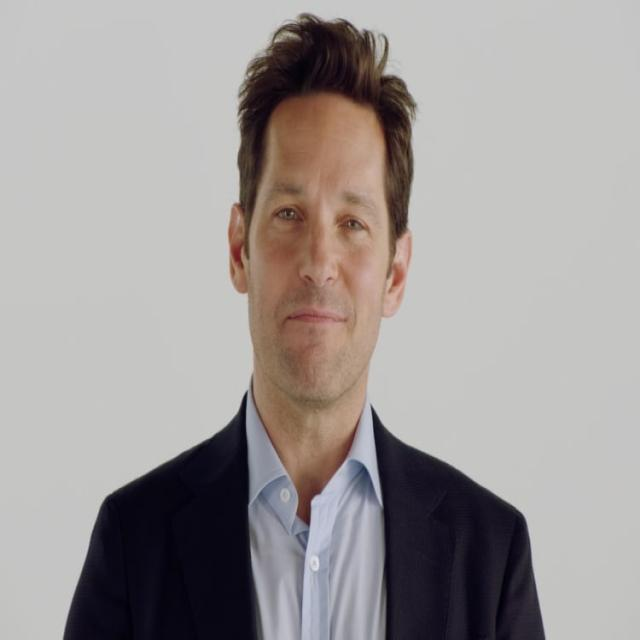human: (61, 8, 548, 640)
